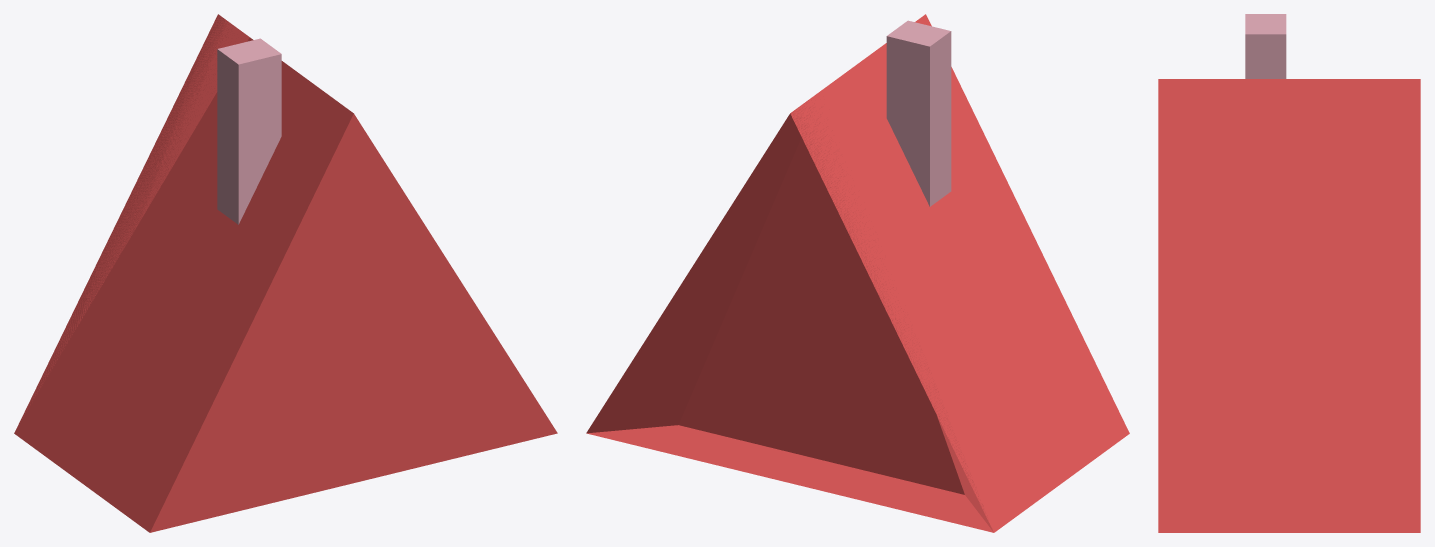
Rendered from Casinha 1.fbx.
3 renders of one model, left to right at view 1: azimuth 30°, elevation 25°; view 2: azimuth 150°, elevation 25°; view 3: azimuth 270°, elevation 25°, orthographic. The views are drawn at different scales.
Parts seen in each view (by area): view 1: Cube.002; view 2: Cube.002; view 3: Cube.002.
Boxes of the visible parts, x1=… form: Cube.002: x1=14, y1=14, x2=557, y2=532; Cube.002: x1=586, y1=14, x2=1129, y2=532; Cube.002: x1=1158, y1=14, x2=1420, y2=532.
Bounding box in the file's own units: 1904 × 1796 × 1097.
